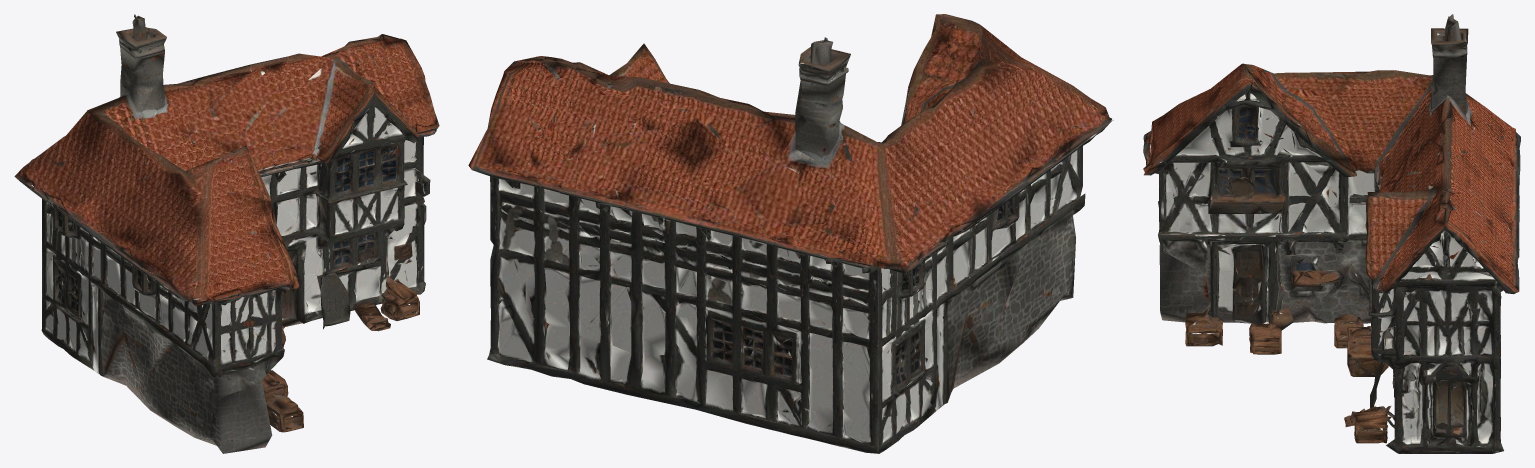
The model's file is tabakwaren.glb.
The picture shows the model from 3 angles, left to right: view 1: azimuth 30°, elevation 25°; view 2: azimuth 150°, elevation 25°; view 3: azimuth 270°, elevation 25°; orthographic projection. The views are drawn at different scales.
Size of the model in its own units: 1.9 by 1.6 by 1.72.
1 material, 1 textured.
